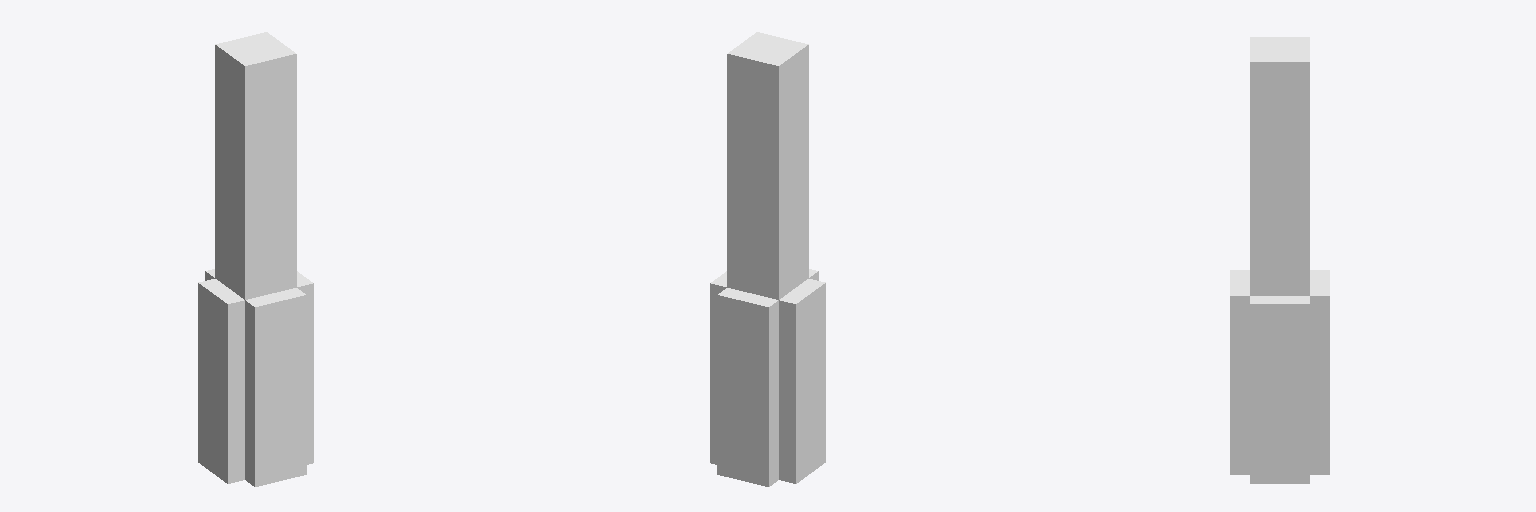
The model's file is human0_arm2.obj.
3 renders of one model, left to right at view 1: azimuth 30°, elevation 25°; view 2: azimuth 150°, elevation 25°; view 3: azimuth 270°, elevation 25°, orthographic.
Visible parts, largest first — view 1: human0_arm2; view 2: human0_arm2; view 3: human0_arm2.
Boxes of the visible parts, x1=… form: human0_arm2: x1=198, y1=32, x2=313, y2=486; human0_arm2: x1=710, y1=32, x2=825, y2=486; human0_arm2: x1=1230, y1=37, x2=1329, y2=483.
Bounding box in the file's own units: 5 × 23 × 5.